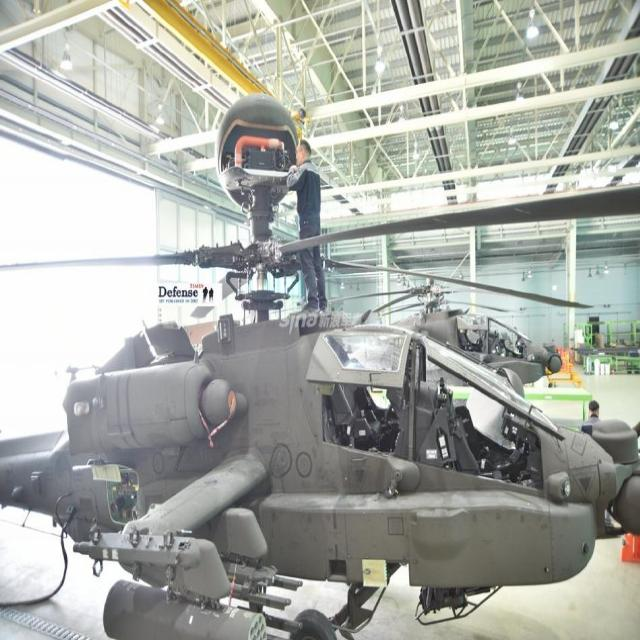MIL_HELO: (8, 187, 640, 640)
